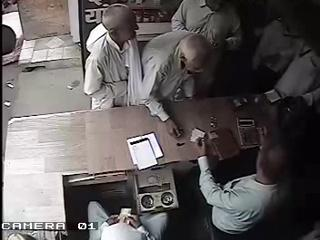Normal: (194, 99, 294, 240), (139, 30, 214, 138), (170, 0, 244, 68)
shoplifting: (82, 2, 144, 111)
